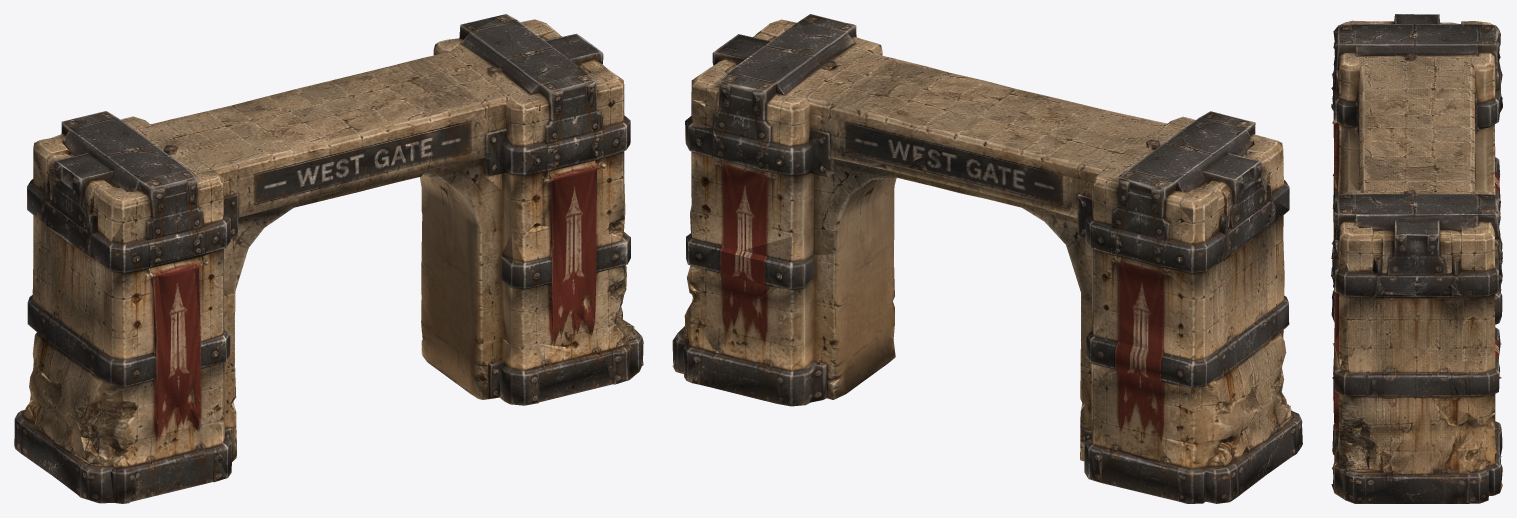
The model's file is gate.fbx.
3 renders of one model, left to right at view 1: azimuth 30°, elevation 25°; view 2: azimuth 150°, elevation 25°; view 3: azimuth 270°, elevation 25°, orthographic. The views are drawn at different scales.
Visible parts, largest first — view 1: Mesh_0; view 2: Mesh_0; view 3: Mesh_0.
Part boxes in pixels (x1=…): Mesh_0: x1=14, y1=14, x2=643, y2=503; Mesh_0: x1=672, y1=14, x2=1302, y2=503; Mesh_0: x1=1331, y1=14, x2=1502, y2=503.
Size of the model in its own units: 190 by 99.79 by 58.22.
Materials: 1 (1 with a texture image).
